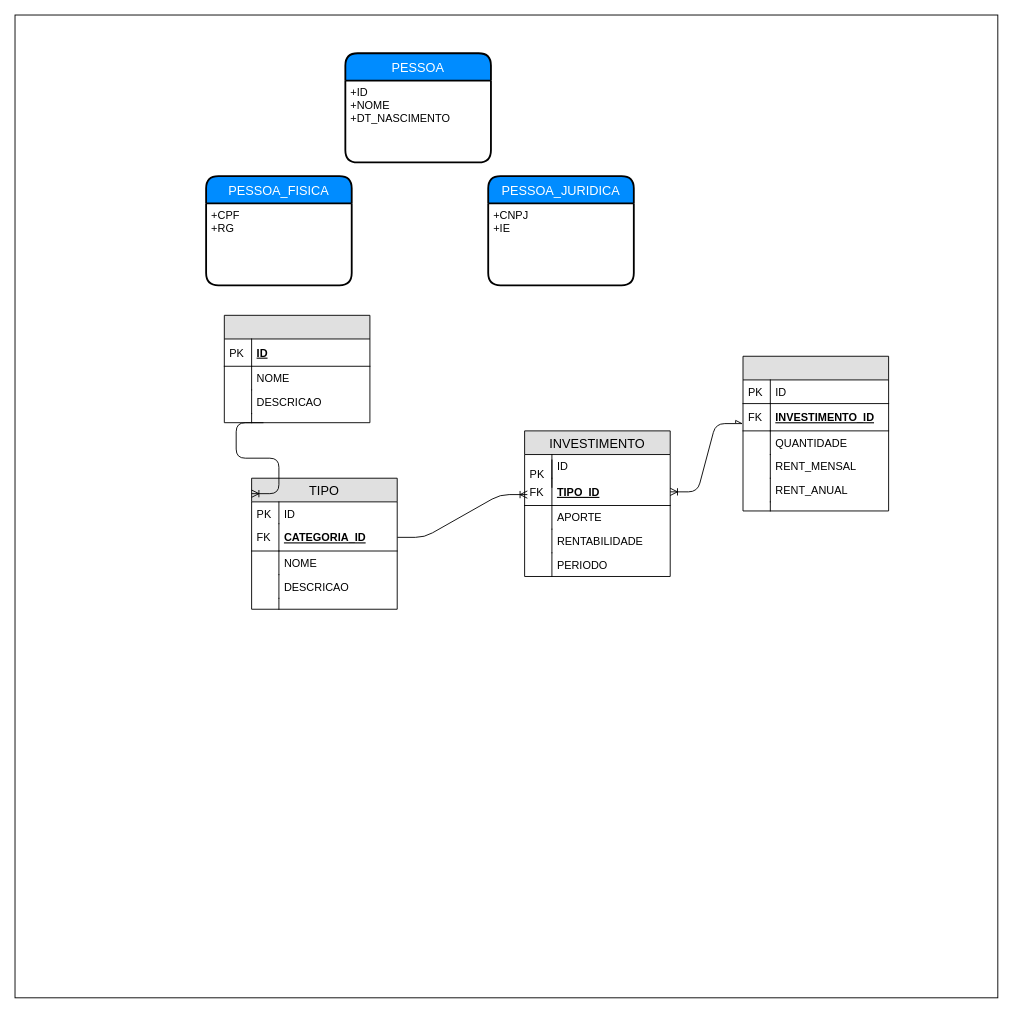
The diagram is 1013 pixels wide and 1013 high, and some of its shapes have lost their labels. Each missing label, with the box of its shape:
CARTEIRA: (742, 355, 889, 511)
CATEGORIA: (223, 314, 370, 423)
